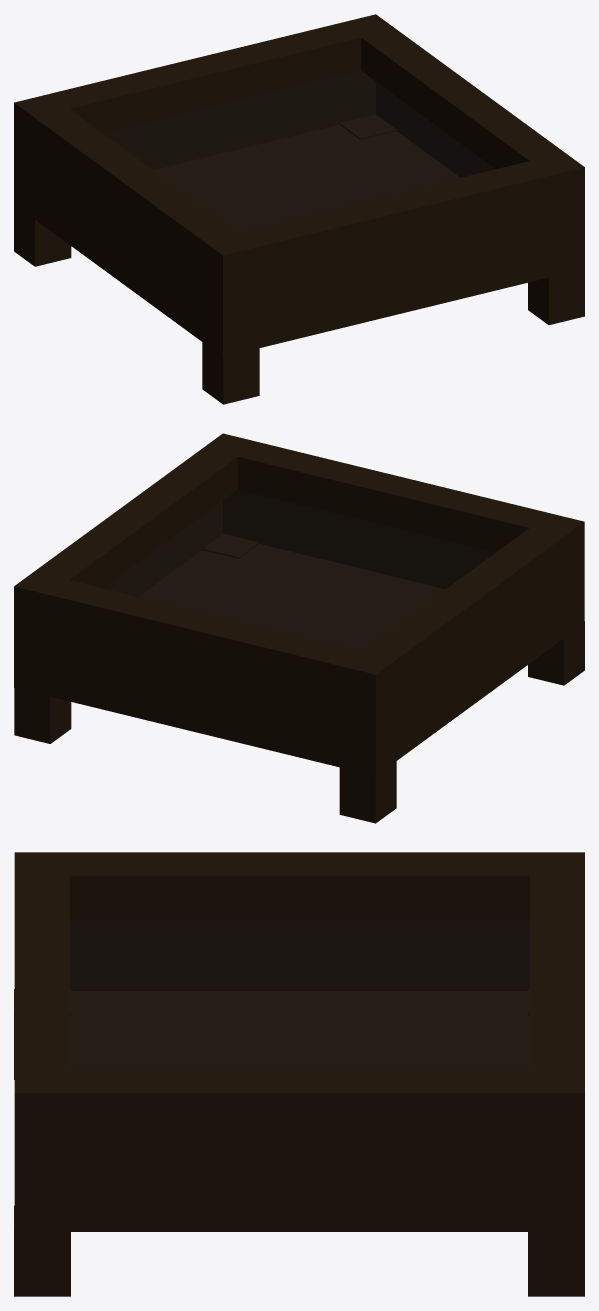
The model's file is bath.glb.
The picture shows the model from 3 angles, top to bottom: view 1: azimuth 30°, elevation 25°; view 2: azimuth 150°, elevation 25°; view 3: azimuth 270°, elevation 25°; orthographic projection. The views are drawn at different scales.
Parts seen in each view (by area): view 1: Bath; view 2: Bath; view 3: Bath.
Boxes of the visible parts, left/top/right/bottom form: Bath: left=14, top=14, right=584, bottom=404; Bath: left=14, top=433, right=584, bottom=823; Bath: left=14, top=852, right=584, bottom=1296.
Bounding box in the file's own units: 1.6 × 0.6293 × 1.6.
